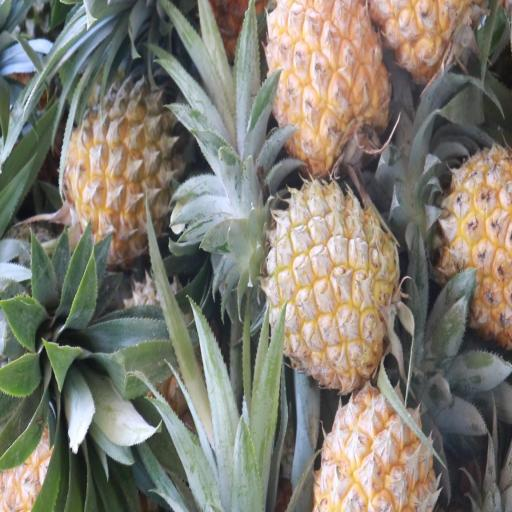------------------------------: (66, 83, 189, 255)
Pineapple - v8 v1: (272, 176, 404, 383), (272, 0, 396, 162), (317, 371, 454, 512), (425, 145, 512, 336)
